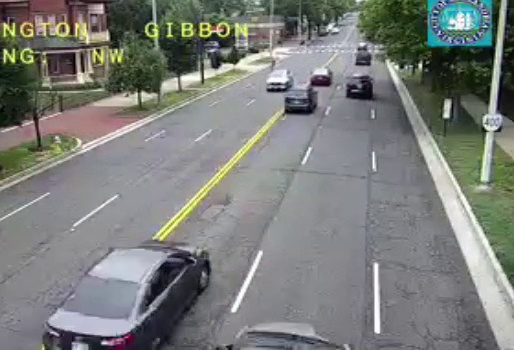car: (42, 240, 210, 350), (285, 89, 317, 113), (346, 76, 372, 99), (311, 68, 331, 85)
